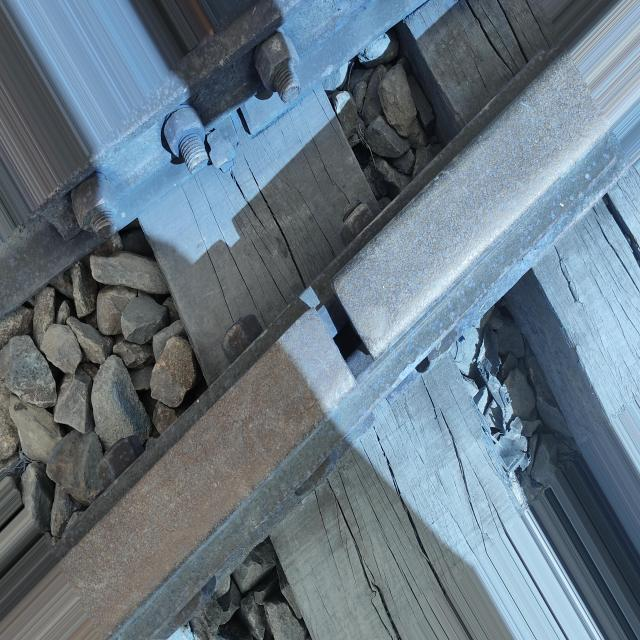Defective Joint: (60, 30, 637, 633)
Good Joint: (48, 5, 383, 258)
